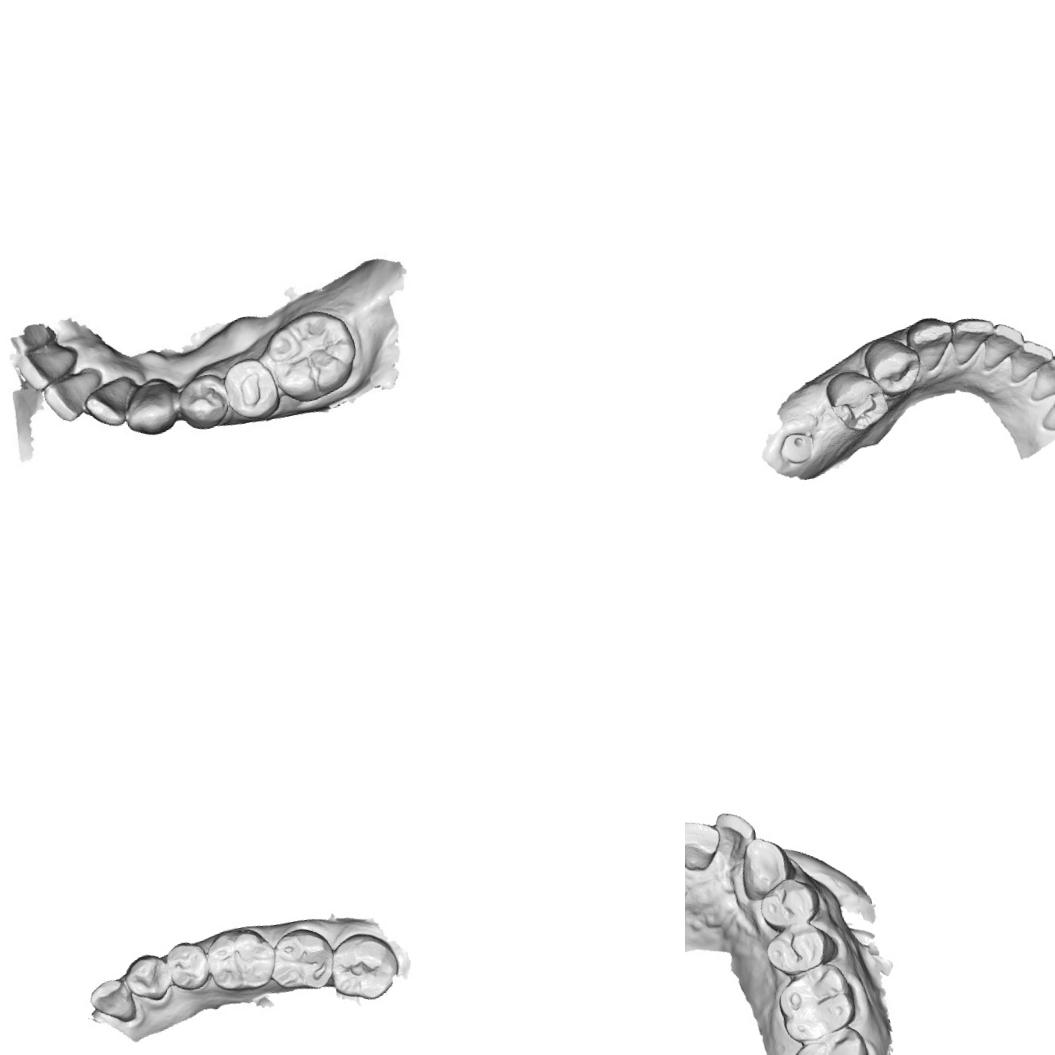canine: (116, 371, 187, 442), (731, 830, 795, 902), (901, 312, 961, 375), (119, 948, 176, 1008), (1034, 385, 1055, 435)
implant: (774, 426, 820, 468)
incisor: (40, 364, 112, 428), (13, 336, 93, 393), (80, 368, 148, 435), (710, 805, 762, 869), (84, 973, 140, 1031), (946, 311, 1001, 367), (975, 318, 1030, 371), (685, 812, 727, 878), (1002, 335, 1055, 384), (1021, 349, 1055, 403)
molar: (262, 309, 359, 401), (770, 960, 862, 1048), (322, 924, 407, 1009), (201, 918, 284, 1000), (262, 920, 340, 1001), (782, 1022, 878, 1055)
premolar: (819, 362, 894, 437), (759, 915, 842, 980), (860, 329, 928, 402), (752, 872, 825, 939), (172, 372, 234, 437), (219, 358, 279, 421), (161, 936, 216, 996)
